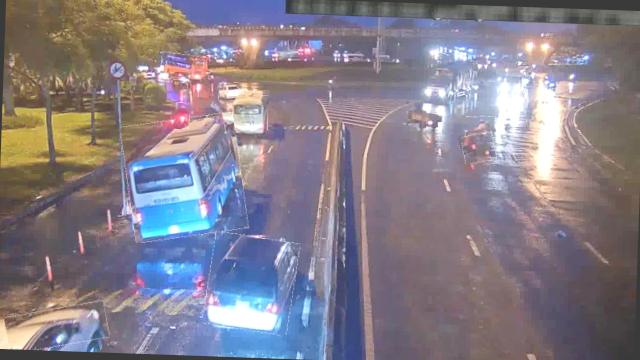Bike: (462, 132, 496, 163), (464, 116, 498, 139), (174, 103, 190, 129)
Bus: (121, 112, 247, 243), (233, 94, 267, 137), (160, 53, 204, 81)
Car: (204, 233, 297, 334), (4, 302, 110, 352), (218, 82, 244, 102)
Truck: (435, 63, 480, 98)
